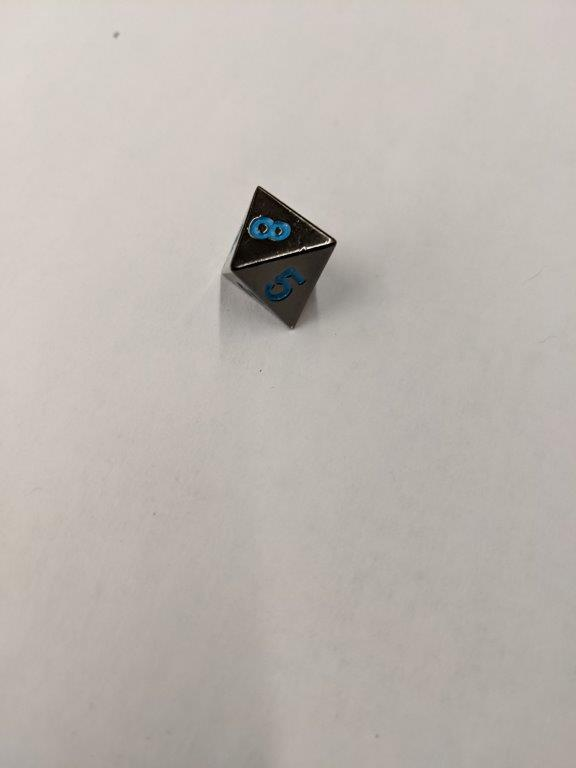d8-8: (219, 187, 337, 331)
